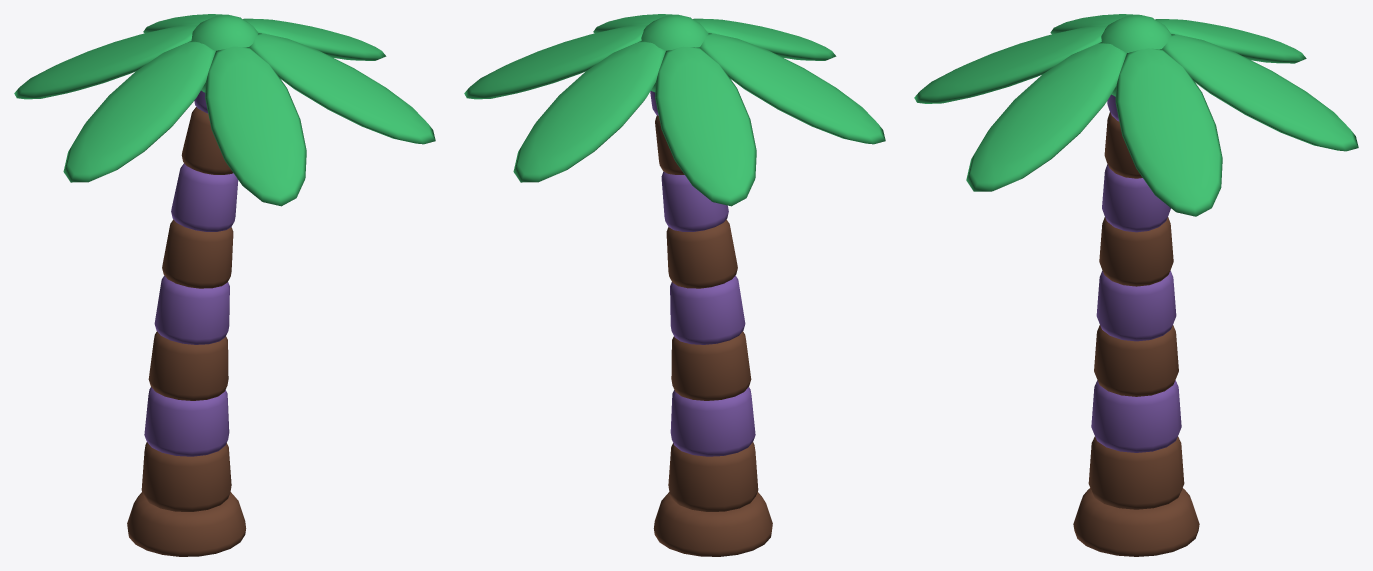
The model's file is Beach_PalmTree.fbx.
The picture shows the model from 3 angles, left to right: view 1: azimuth 30°, elevation 25°; view 2: azimuth 150°, elevation 25°; view 3: azimuth 270°, elevation 25°; orthographic projection. The views are drawn at different scales.
Parts seen in each view (by area): view 1: Leaf, Wooddark, Purple; view 2: Leaf, Wooddark, Purple; view 3: Leaf, Wooddark, Purple.
Part boxes in pixels (bbox=[...]): Leaf: bbox=[14, 14, 435, 206]; Wooddark: bbox=[127, 107, 246, 556]; Purple: bbox=[144, 90, 238, 456]; Leaf: bbox=[464, 14, 885, 206]; Wooddark: bbox=[653, 115, 772, 556]; Purple: bbox=[650, 91, 755, 456]; Leaf: bbox=[914, 14, 1358, 216]; Wooddark: bbox=[1073, 112, 1199, 556]; Purple: bbox=[1091, 94, 1181, 452].
Bounding box in the file's own units: 10.58 × 14.03 × 10.58.
